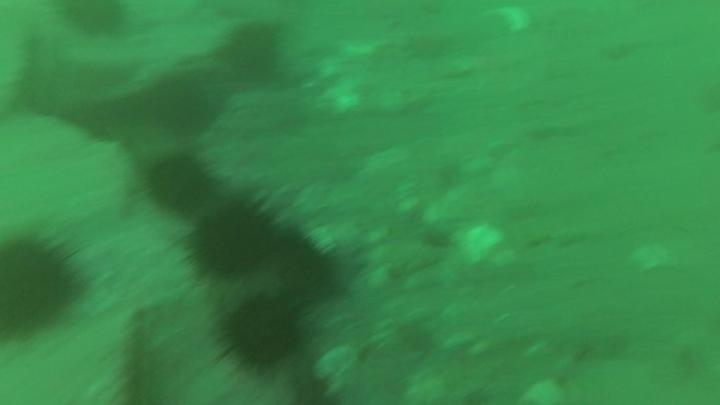echinus: (1, 245, 74, 342), (195, 202, 271, 276), (228, 301, 296, 370), (275, 234, 332, 300), (149, 76, 212, 135), (149, 159, 207, 215), (224, 29, 281, 79)
